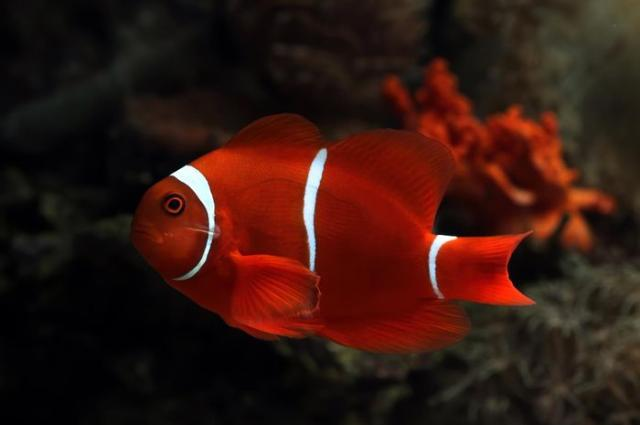Mulut: (108, 202, 176, 272)
Sirip Anal: (326, 298, 484, 360)
Sirip Dada: (219, 240, 327, 338)
Sirip Ekor: (437, 211, 557, 315)
Sirip Punggung: (215, 100, 468, 232)
